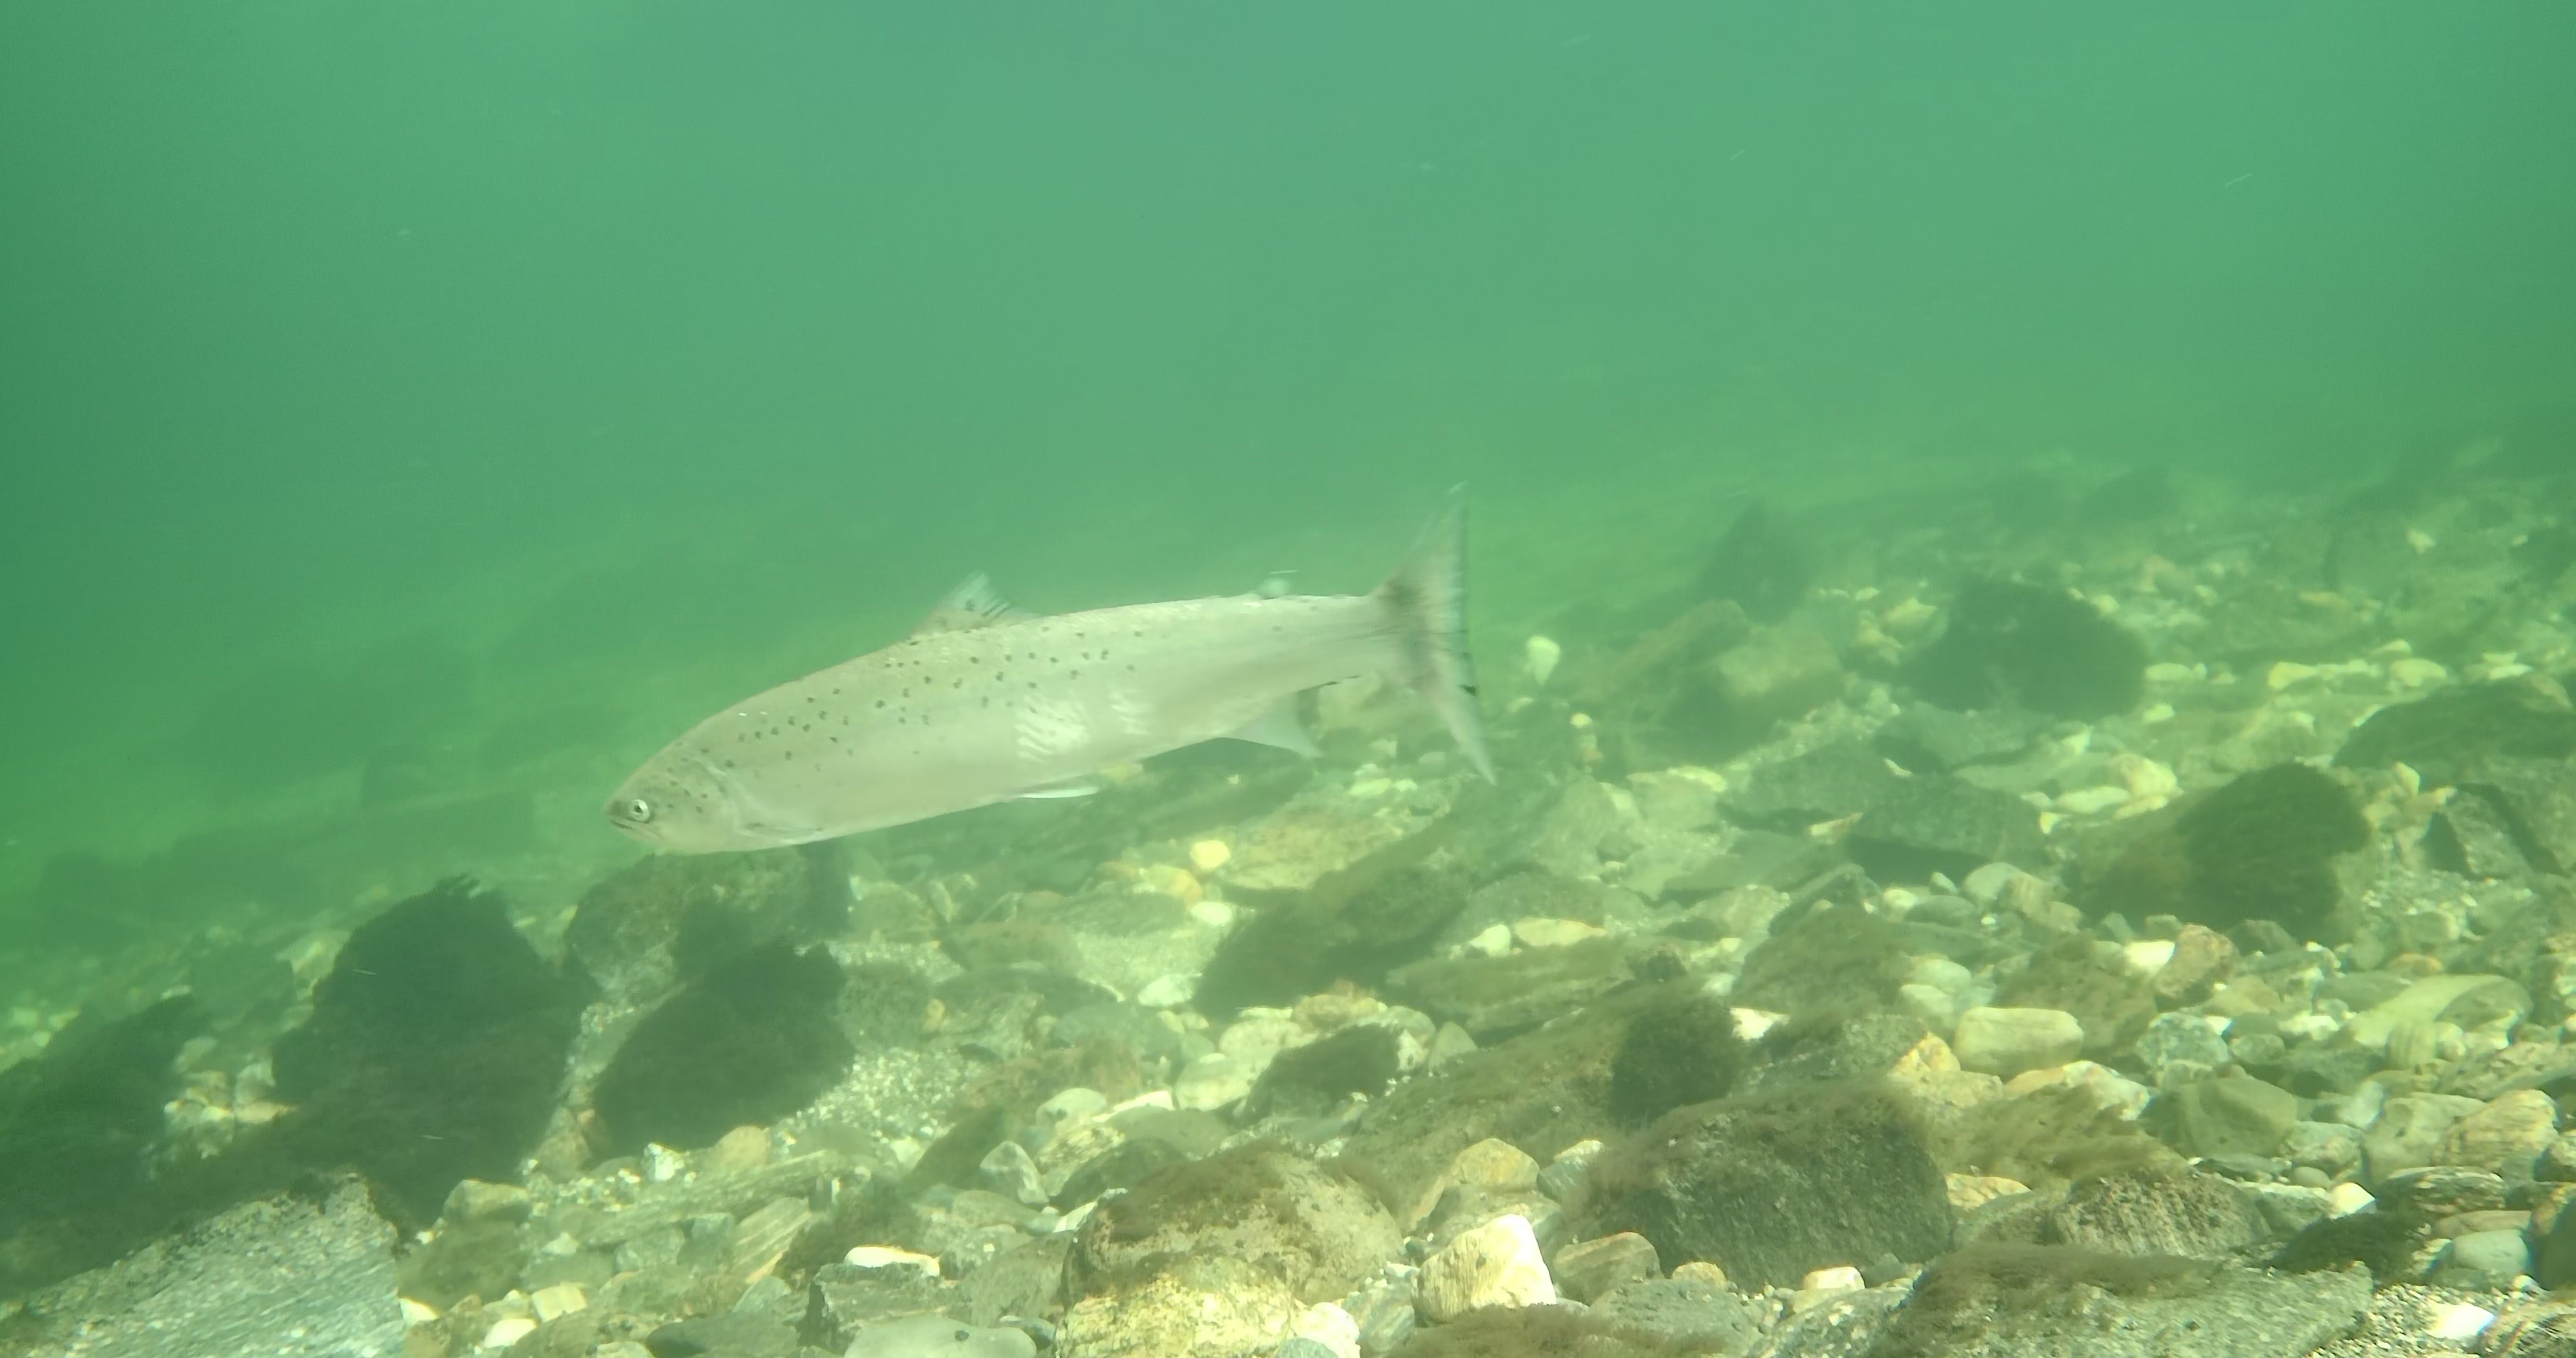salmon: (601, 477, 1503, 860)
